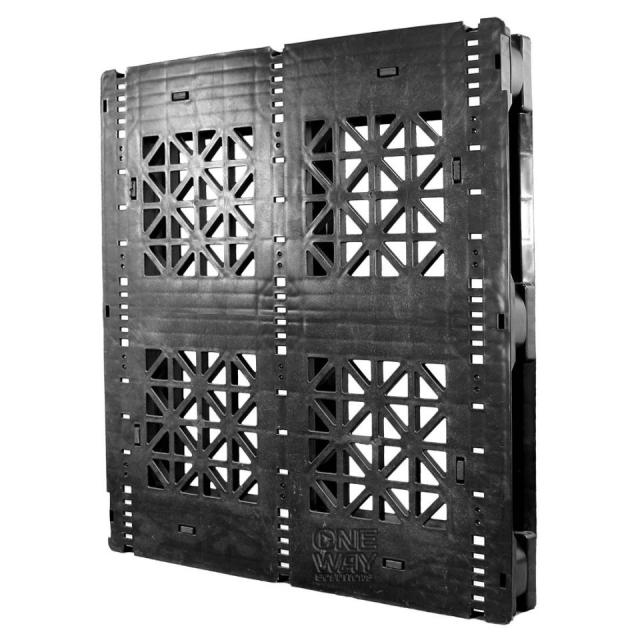non-igps: (99, 15, 538, 627)
